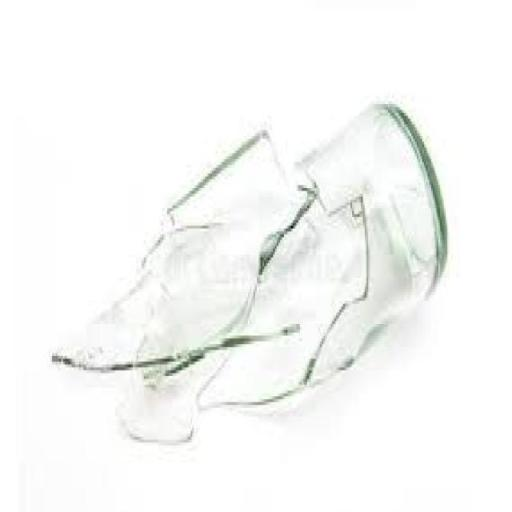glass: (40, 85, 460, 470)
